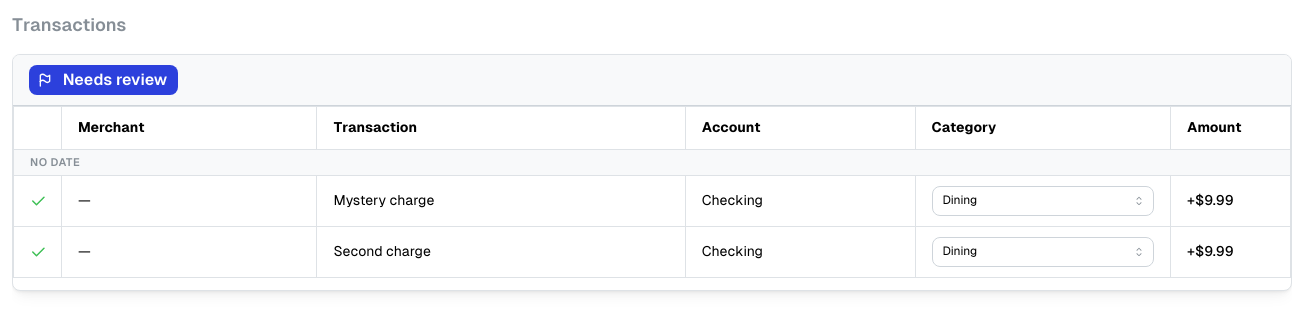
Scenario: TransactionsView › marks the correct transaction reviewed and removes it from the list
The width and height of the screenshot is (1292, 311).
Click the button named "Mark Mystery charge as reviewed": (38, 201) [24, 187, 52, 215]
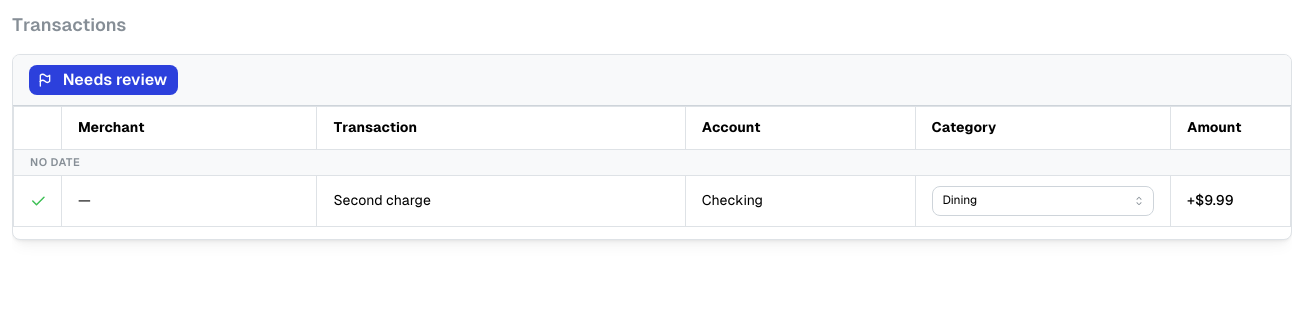
Expected: the text "Second charge" is shown, [317, 176, 685, 226]
Expected: the text "Mystery charge" is gone
